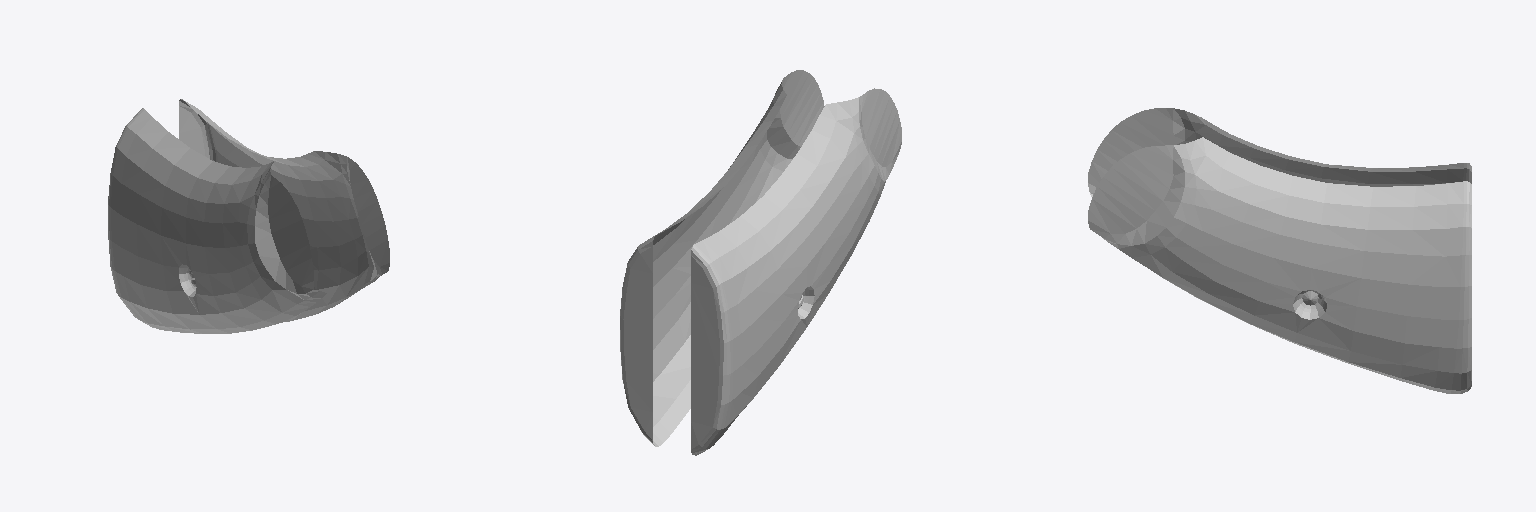
File: Ivorygrip.obj
The picture shows the model from 3 angles: view 1: azimuth 30°, elevation 25°; view 2: azimuth 150°, elevation 25°; view 3: azimuth 270°, elevation 25°; orthographic projection.
Parts seen in each view (by area): view 1: GripGood; view 2: GripGood; view 3: GripGood.
Boxes of the visible parts, <box> form: GripGood: <box>108,99,389,333</box>; GripGood: <box>620,70,901,455</box>; GripGood: <box>1088,108,1471,393</box>.
Size of the model in its own units: 2.65 by 5.97 by 8.06.